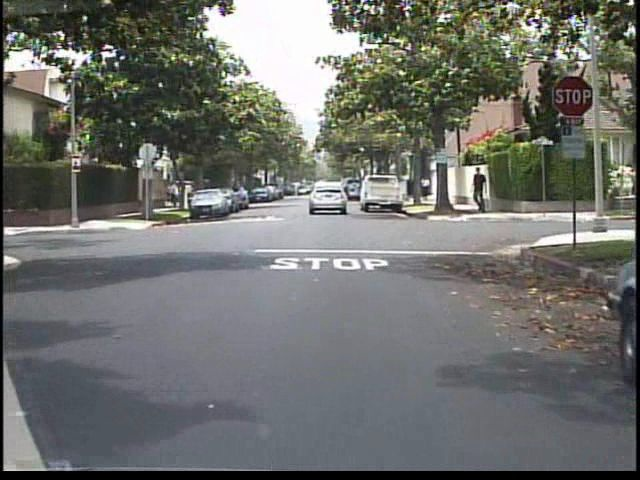person: (467, 163, 494, 218), (417, 172, 434, 204), (165, 179, 183, 208)
